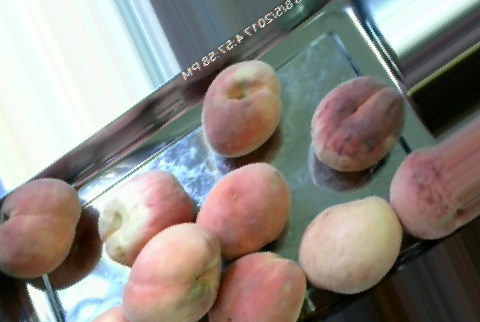Peach: (297, 195, 400, 294), (96, 170, 196, 269), (121, 222, 221, 321), (194, 161, 292, 256), (309, 76, 405, 172), (0, 176, 82, 279), (202, 58, 280, 158), (204, 250, 306, 321)
